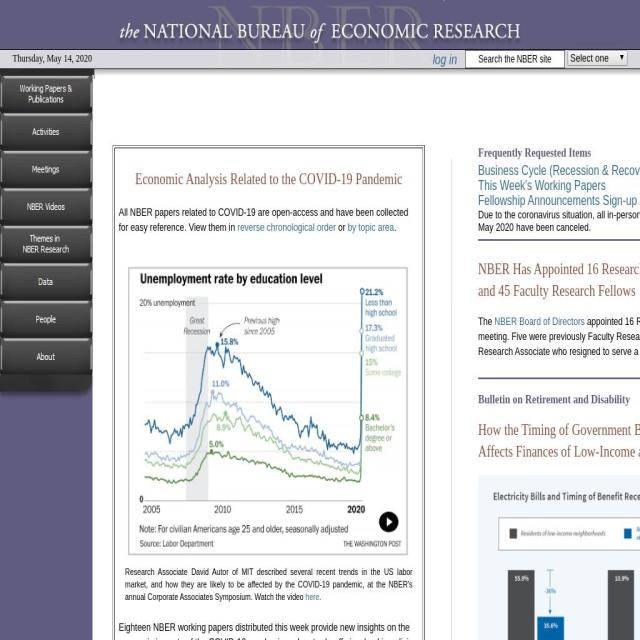field: (464, 50, 565, 68), (567, 50, 627, 66)
heading: (135, 170, 403, 188), (478, 260, 640, 278), (478, 420, 640, 438), (478, 442, 640, 460), (478, 282, 636, 299), (478, 391, 640, 407), (478, 146, 640, 160)
image: (128, 266, 410, 556), (0, 0, 623, 79), (478, 474, 640, 640), (0, 75, 92, 112), (0, 112, 92, 149), (0, 150, 92, 187), (0, 187, 92, 224), (0, 225, 92, 262), (0, 262, 92, 299), (0, 300, 92, 337), (0, 337, 92, 374), (0, 375, 94, 404), (450, 158, 453, 640)
link: (478, 164, 640, 178), (478, 194, 637, 208), (478, 178, 606, 192), (237, 221, 336, 233), (494, 315, 586, 327), (347, 221, 395, 233), (432, 52, 458, 66), (305, 592, 319, 602)
text: (125, 566, 413, 602), (119, 206, 408, 233), (478, 315, 640, 357), (119, 621, 417, 640), (478, 208, 640, 234), (12, 52, 92, 65), (478, 315, 494, 327), (336, 221, 348, 233), (394, 221, 396, 233), (319, 592, 321, 602)
